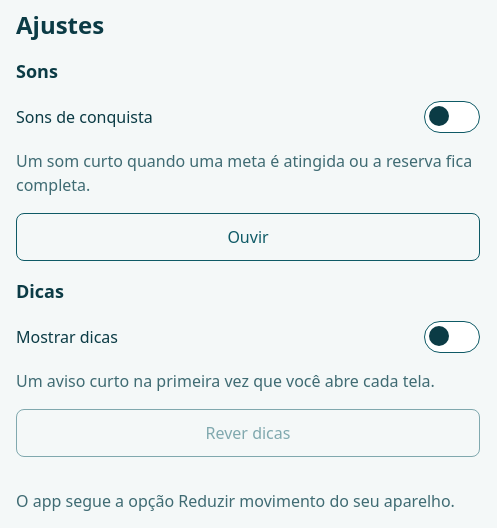
SettingsPage › toggleAndListen
Later steps or results of the test are not shown.
What coordinates should you click on to do the following:
click the switch named "Sons de conquista"
I would click on:
 (452, 117)
Its box is [424,101,480,133].
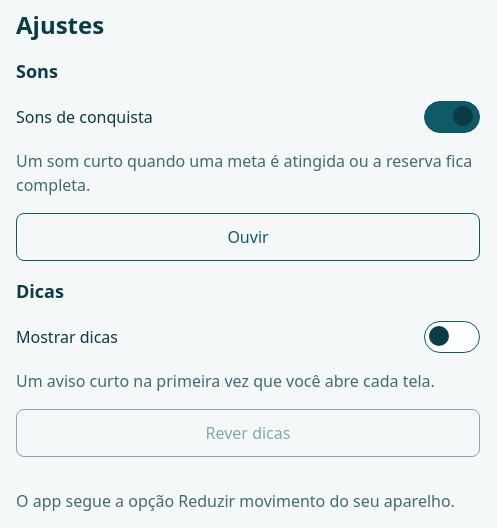
Check: the switch named "Sons de conquista" is checked, box [424,101,480,133]
